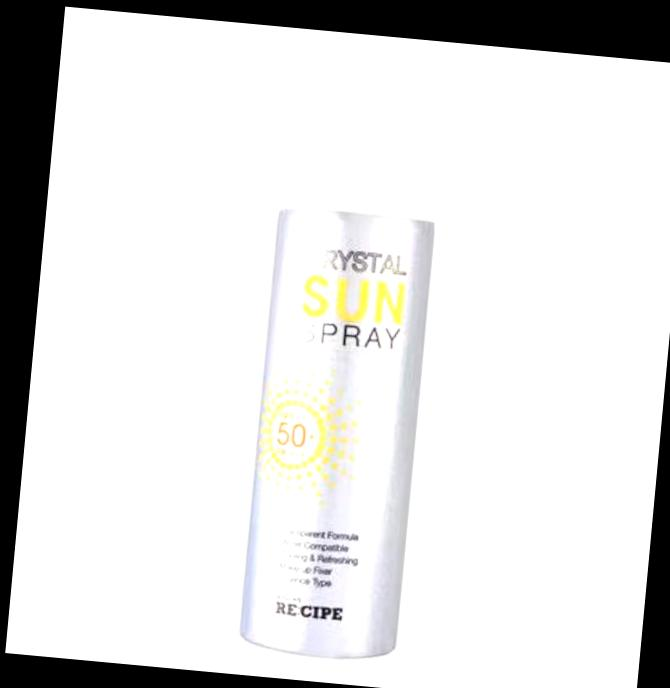cosmetic: (238, 58, 455, 663)
